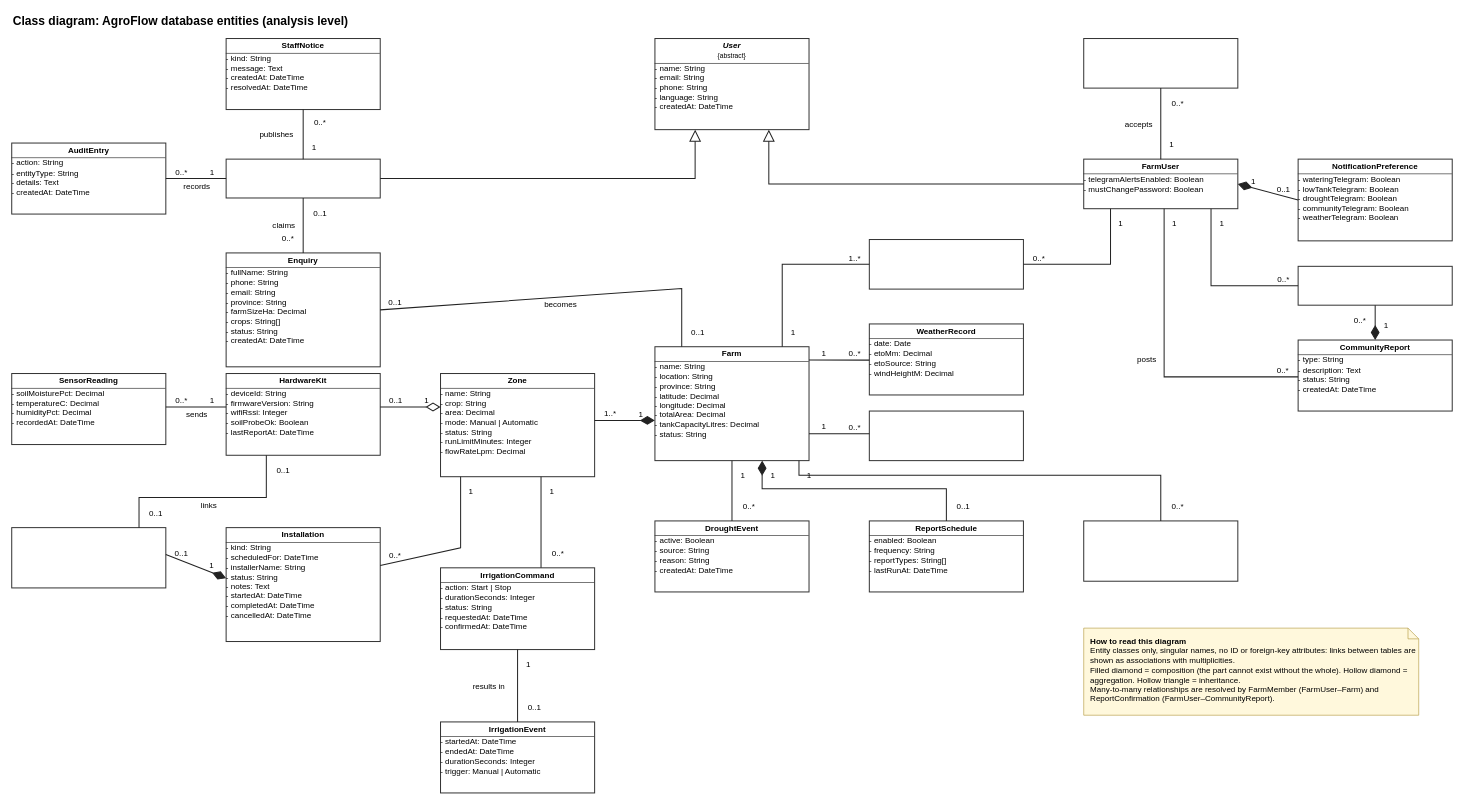
Some shapes in this 1465 by 805 pixel diagram are drawn without their labels. The shapes that lost their labels are listed below. From the top down, each one's box as (x1, y1, x2, y2) in pixels, then its label:
(1083, 38, 1238, 88): TermsAcceptance - termsVersion: String - acceptedAt: DateTime
(225, 158, 380, 198): Admin - (staff member)
(869, 239, 1024, 289): FarmMember - joinedAt: DateTime
(1297, 266, 1452, 305): ReportConfirmation - confirmedAt: DateTime
(869, 410, 1024, 461): TankRefill - litres: Decimal - refilledAt: DateTime
(11, 527, 166, 588): EnrollmentCode - code: String - expiresAt: DateTime - usedAt: DateTime
(1083, 520, 1238, 581): Notification - alertType: String - subjectDate: Date - sentAt: DateTime
